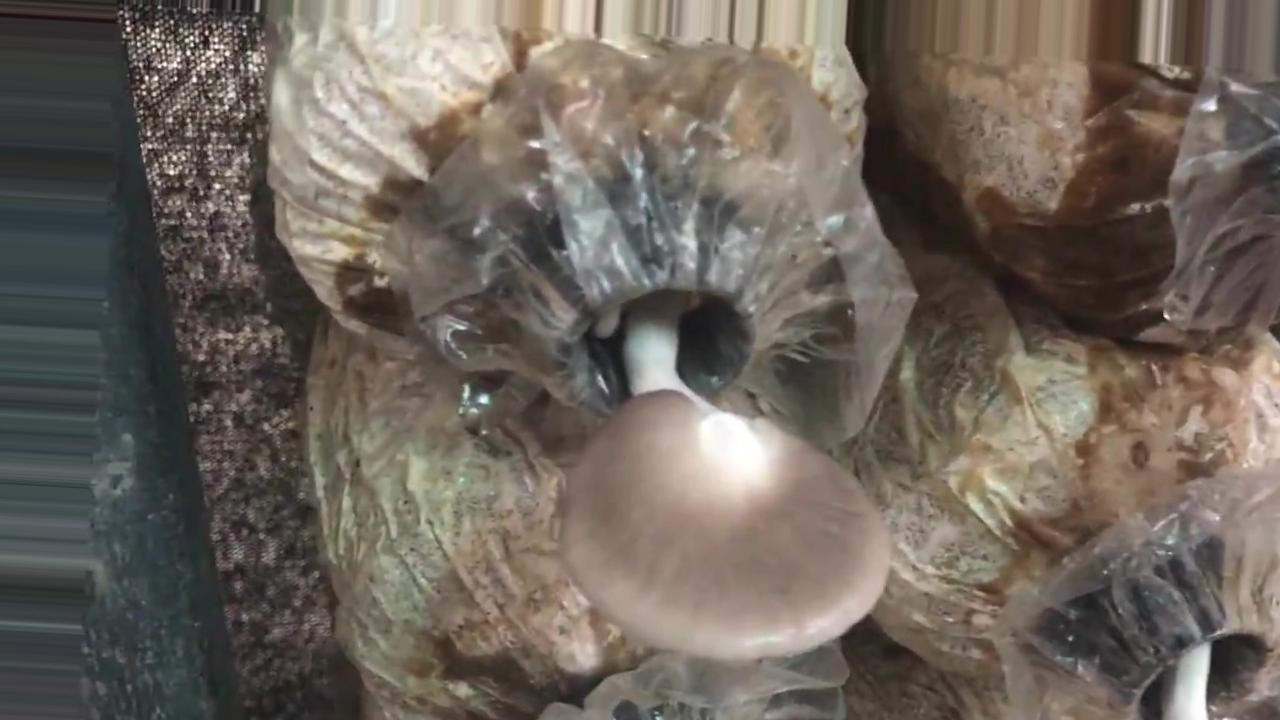nam: (486, 175, 900, 668)
